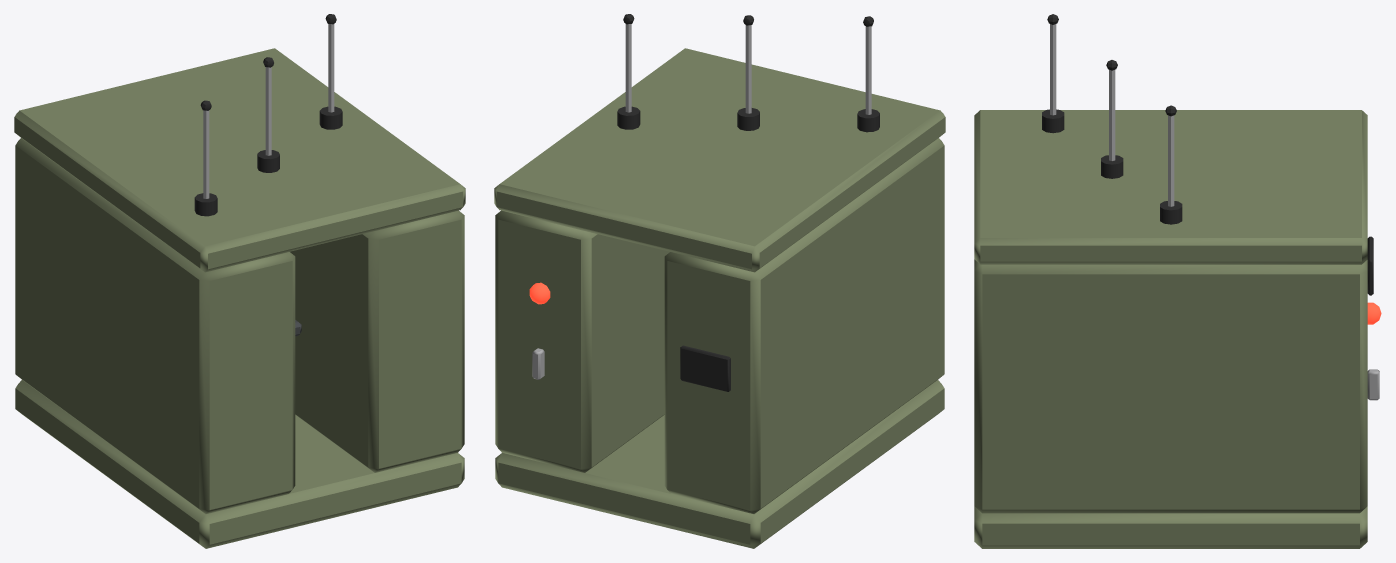
The model's file is jammer.glb.
The picture shows the model from 3 angles, left to right: view 1: azimuth 30°, elevation 25°; view 2: azimuth 150°, elevation 25°; view 3: azimuth 270°, elevation 25°; orthographic projection. The views are drawn at different scales.
Visible parts, largest first — view 1: body; view 2: body; view 3: body.
Boxes of the visible parts, x1,y1,x2,y2 form: body: [14, 14, 465, 548]; body: [494, 14, 945, 548]; body: [974, 14, 1381, 548].
Size of the model in its own units: 0.16 by 0.239 by 0.207.
